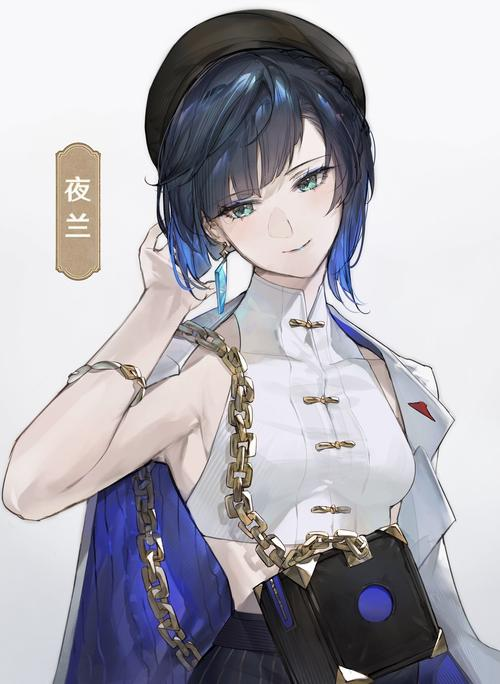夜兰: (3, 10, 500, 684)
